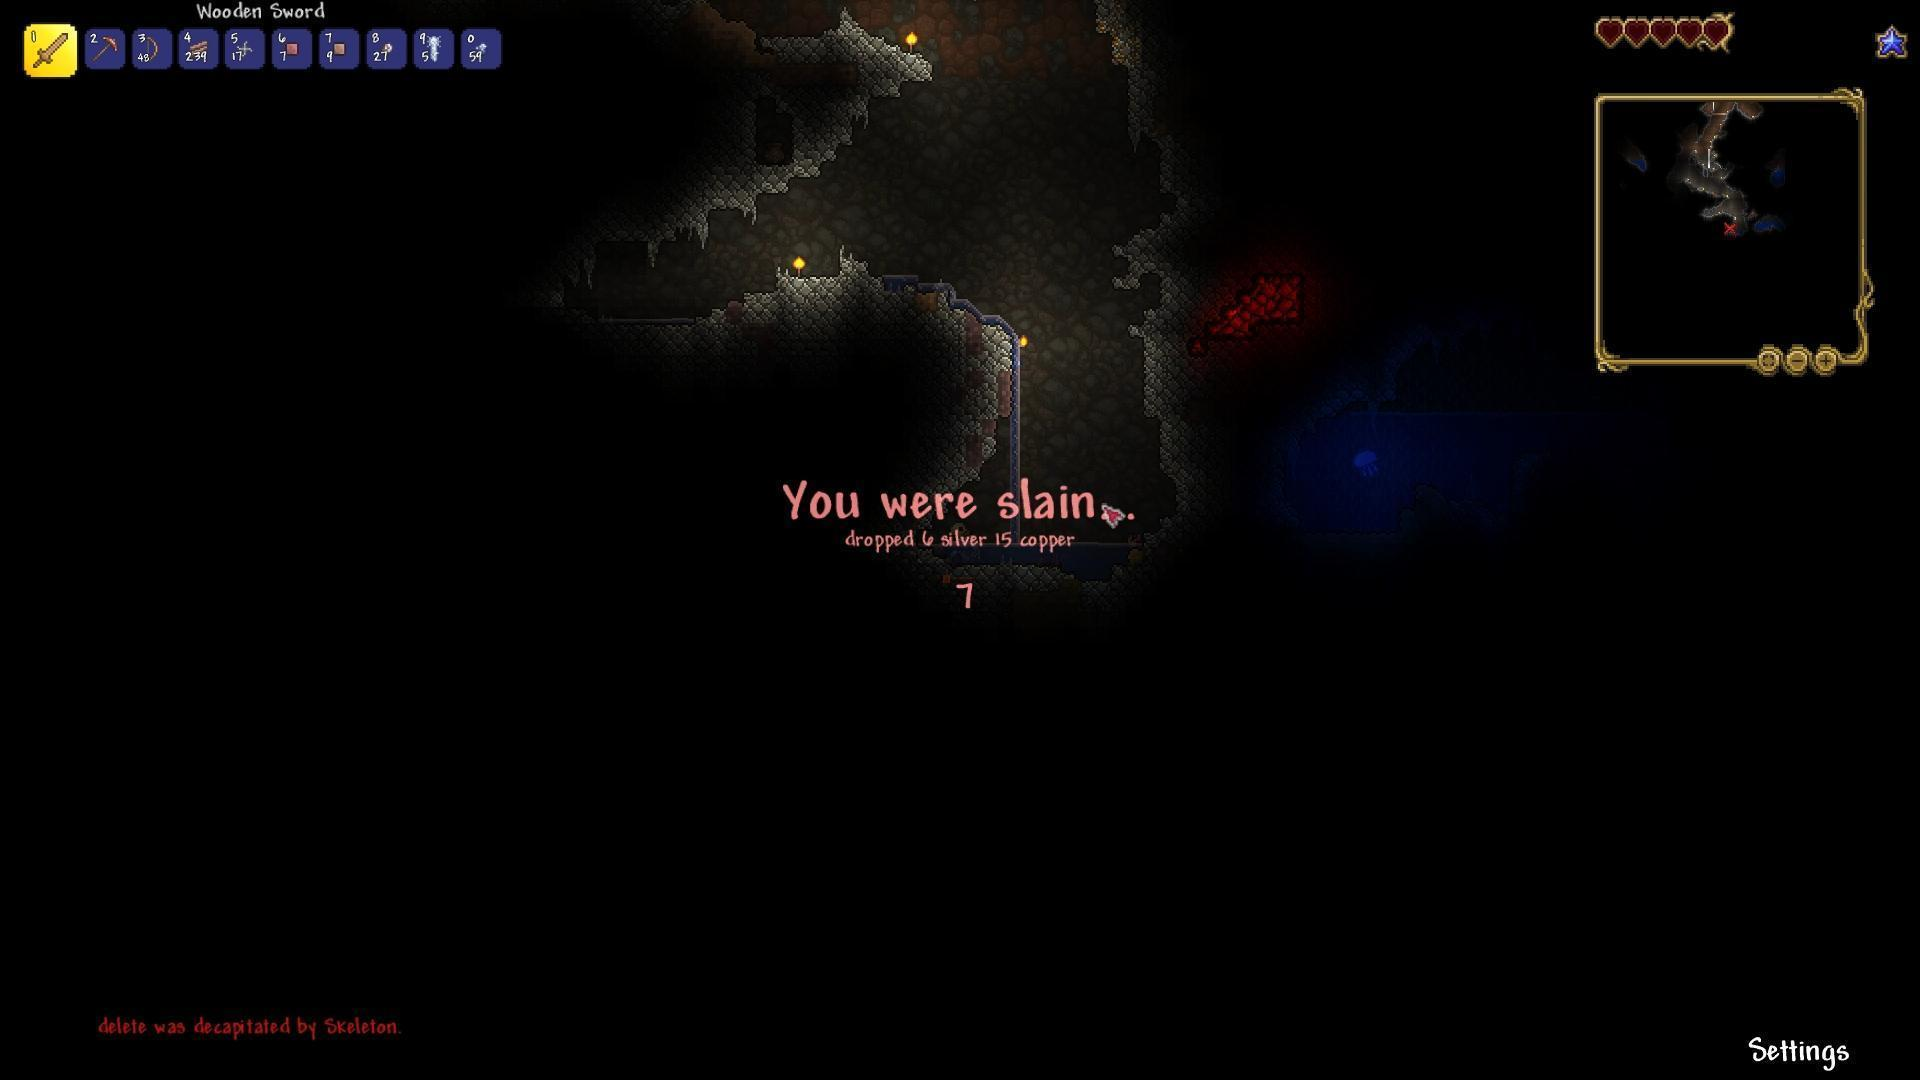bow: (142, 33, 160, 65)
ore: (378, 41, 396, 57), (476, 40, 488, 55)
pickaxe: (91, 32, 121, 65)
rope: (427, 32, 443, 65)
shuriken: (235, 40, 253, 58)
wood: (187, 37, 211, 57)
